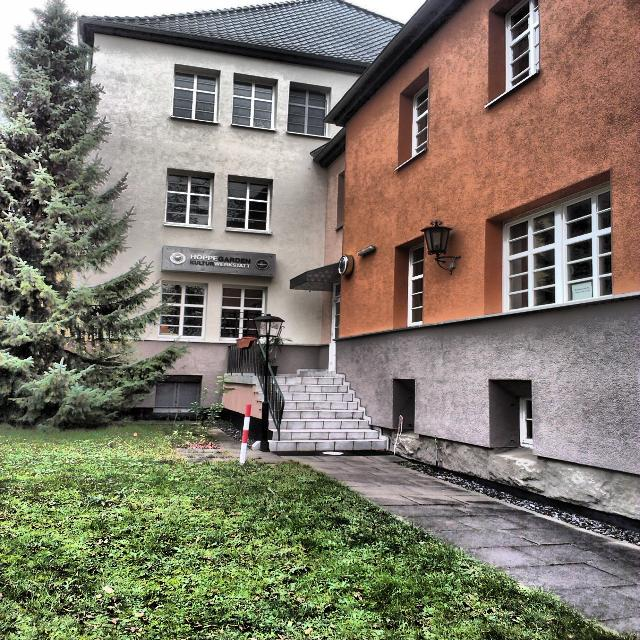escada: (249, 374, 385, 456)
